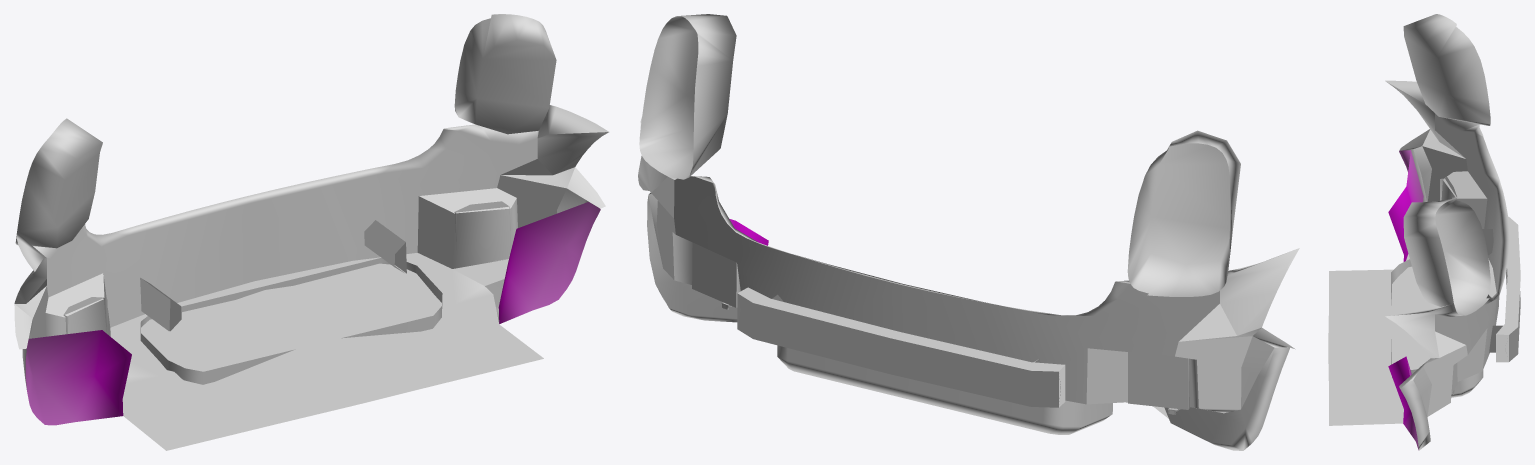
The model's file is Car_Mini_CountrymanJCW_2017_BumperChassisR_SetD_AltA.fbx.
3 renders of one model, left to right at view 1: azimuth 30°, elevation 25°; view 2: azimuth 150°, elevation 25°; view 3: azimuth 270°, elevation 25°, orthographic. The views are drawn at different scales.
Parts seen in each view (by area): view 1: BumperChassisR 6; view 2: BumperChassisR 6; view 3: BumperChassisR 6.
Part boxes in pixels (left/top/right/bottom): BumperChassisR 6: left=14, top=14, right=608, bottom=450; BumperChassisR 6: left=638, top=14, right=1299, bottom=450; BumperChassisR 6: left=1328, top=14, right=1520, bottom=450.
Bounding box in the file's own units: 1.74 × 0.8115 × 0.5877.
